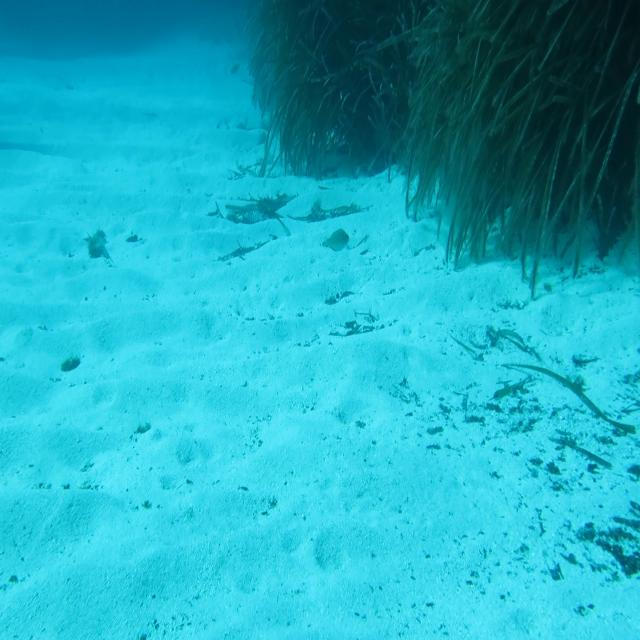SA: (322, 225, 352, 258)
vegetation: (259, 0, 640, 138), (427, 139, 640, 247)
